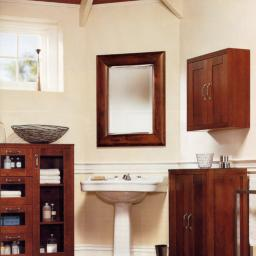Armario: (168, 170, 235, 254)
Lavamanos: (85, 175, 164, 250)
